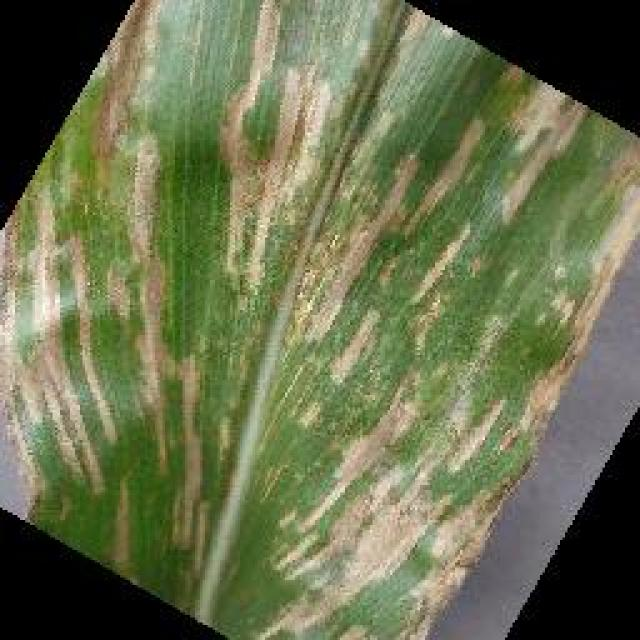Corn_Grey_Leaf_Spot: (100, 62, 510, 570)
